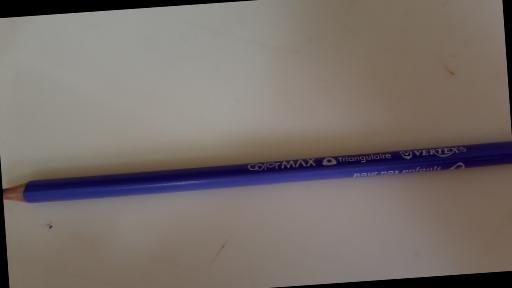Pencil: (2, 143, 512, 202)
